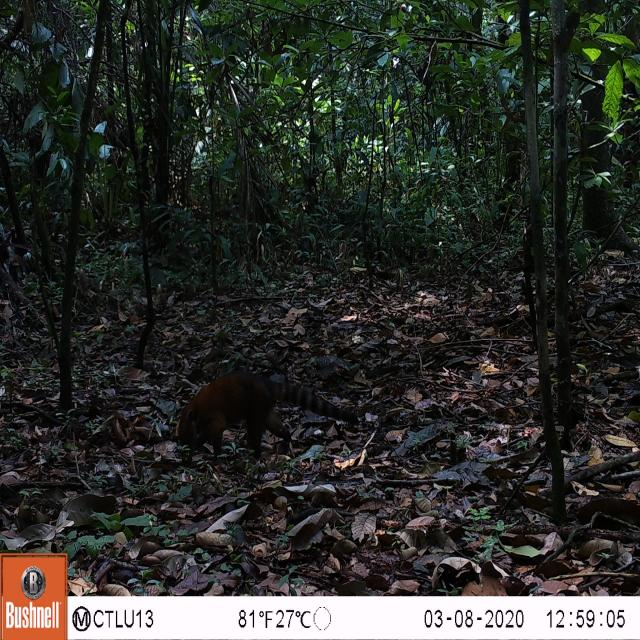South American Coati: (165, 360, 363, 465)
